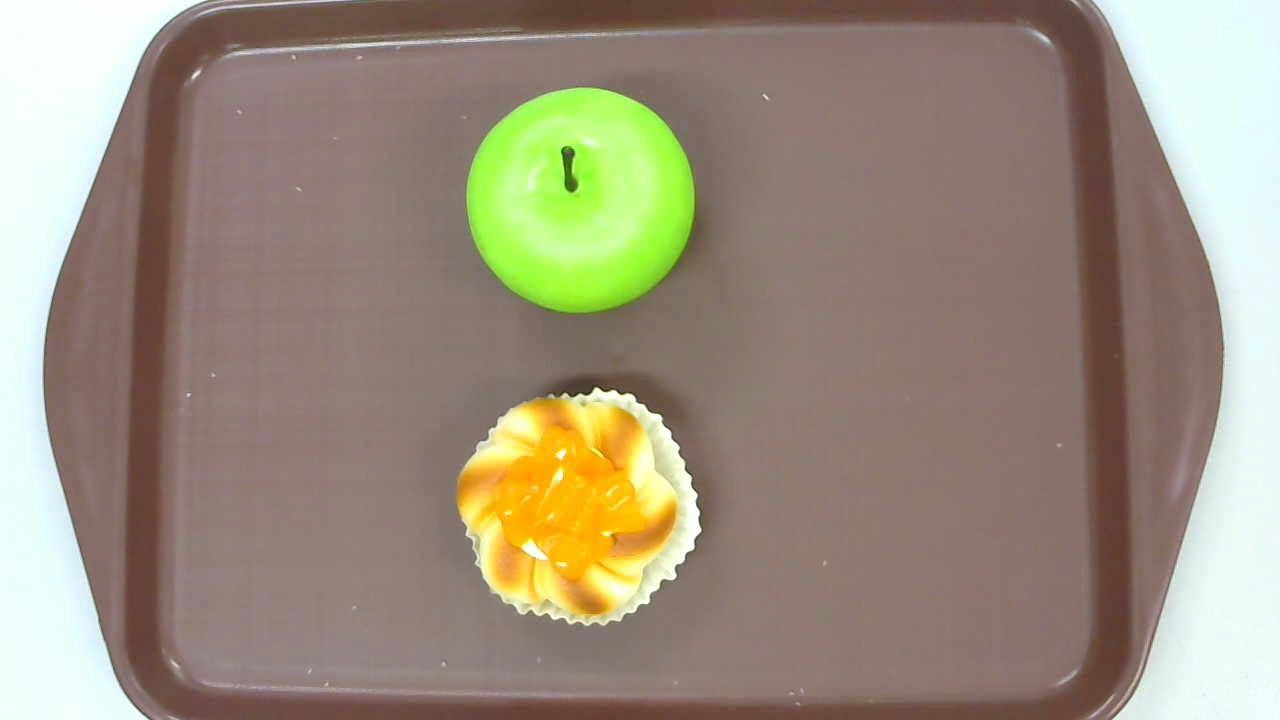green apple: (465, 86, 694, 315)
mango tart: (456, 386, 703, 629)
